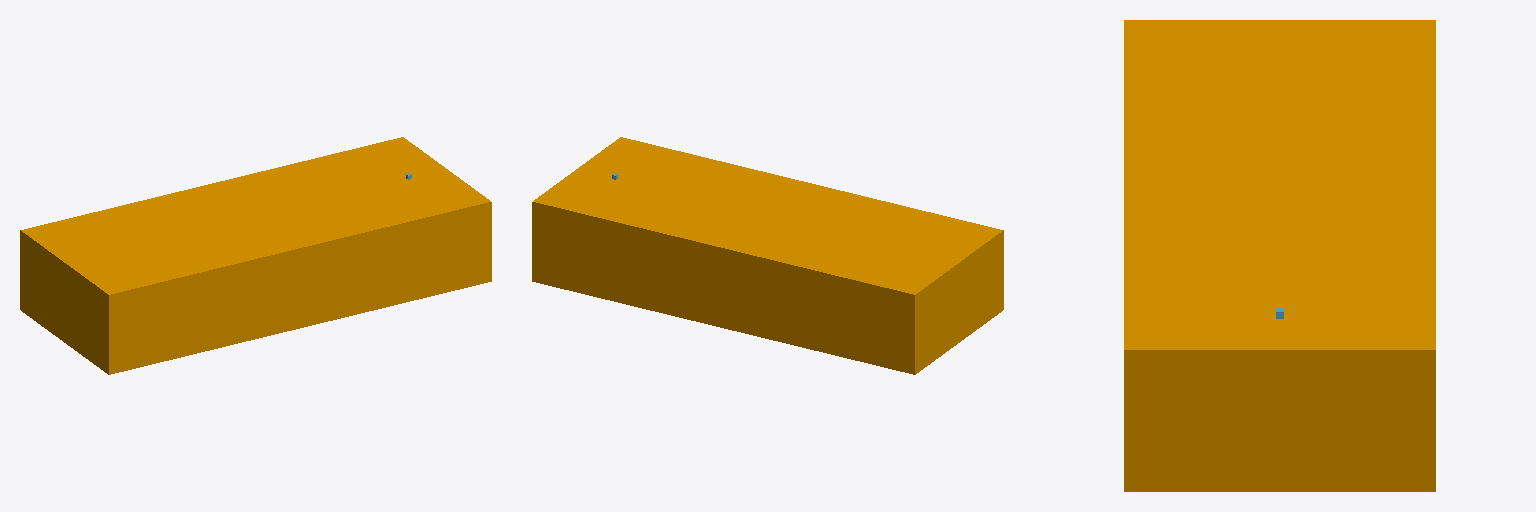
URDF robot description (bbot):
<?xml version="1.0" ?>
<robot name="bbot">

  <!-- GAZEBO SPECIFIC -->

  <!-- Hydrodynamics plugin -->
  <gazebo>
    <plugin name="hydrodynamics" filename="libHydrodynamicsPlugin.so">
      <!-- Wave Model -->
      <wave_model>ocean</wave_model>

      <!-- Hydrodynamics -->
      <damping_on>true</damping_on>
      <viscous_drag_on>true</viscous_drag_on>
      <pressure_drag_on>true</pressure_drag_on>

      <!-- Markers -->
      <markers>
        <update_rate>30</update_rate>
        <water_patch>false</water_patch>
        <waterline>false</waterline>
        <underwater_surface>false</underwater_surface>
      </markers>
    </plugin>
  </gazebo>

  <!-- base_link (main hull) -->
  <gazebo reference="base_link">
    <material>Gazebo/Orange</material>
  </gazebo>

  <!-- camera_link -->
  <gazebo reference="camera_link">
    <material>Gazebo/Red</material>
  </gazebo>

  <!-- camera sensor -->
  <gazebo reference="camera_link">
    <sensor type="camera" name="camera1">
      <always_on>1</always_on>>
      <update_rate>30.0</update_rate>
      <camera name="head">
        <horizontal_fov>1.047</horizontal_fov>
        <image>
          <width>800</width>
          <height>800</height>
          <format>R8G8B8</format>
        </image>
        <clip>
          <near>0.02</near>
          <far>300</far>
        </clip>
      </camera>
      <plugin name="camera_controller" filename="libgazebo_ros_camera.so">
        <alwaysOn>true</alwaysOn>
        <updateRate>0.0</updateRate>
        <cameraName>bbot/camera1</cameraName>
        <imageTopicName>image_raw</imageTopicName>
        <cameraInfoTopicName>camera_info</cameraInfoTopicName>
        <frameName>camera_link</frameName>
        <hackBaseline>0.07</hackBaseline>
        <distortionK1>0.0</distortionK1>
        <distortionK2>0.0</distortionK2>
        <distortionK3>0.0</distortionK3>
        <distortionT1>0.0</distortionT1>
        <distortionT2>0.0</distortionT2>
      </plugin>
    </sensor>
  </gazebo>

  <!-- GAZEBO SPECIFIC -->


  <!-- Base link (main hull) -->
  <link name="base_link">
    <visual>
      <geometry>
        <box size="10.0 4.0 2.0"/>
      </geometry>
    </visual>

    <collision>
      <geometry>
        <box size="10.0 4.0 2.0"/>
      </geometry>
    </collision>
    
    <!-- Mass and inertial assume volume is 0.25 densitity of water -->
    <inertial>
      <mass value="20000.0" />
      <inertia 
        ixx="33333.0" ixy="0.0" ixz="0.0"
        iyy="173333.0" iyz="0.0"
        izz="193333.0" />
    </inertial>
  </link>

  <!-- Camera -->
  <link name="camera_link">
    <visual>
      <geometry>
        <box size="0.1 0.1 0.1"/>
      </geometry>
      <material name="red" />
    </visual>

    <collision>
      <geometry>
        <box size="0.1 0.1 0.1"/>
      </geometry>
    </collision>

    <!-- Mock inertial values -->
    <inertial>
      <mass value="0.1" />
      <inertia 
        ixx="0.01" ixy="0.0" ixz="0.0"
        iyy="0.01" iyz="0.0"
        izz="0.01" />
    </inertial>
  </link>

  <joint name="camera_joint" type="fixed">
    <axis xyz="0 1 0" />
    <origin xyz="4.0 0 1.05" rpy="0 0 0"/>
    <parent link="base_link"/>
    <child link="camera_link"/>
  </joint>

  <!--
    generate an optical frame http://www.ros.org/reps/rep-0103.html#suffix-frames
    so that ros and opencv can operate on the camera frame correctly
  -->
  <!-- <link name="camera_link_optical">
  </link> -->

  <!-- <joint name="camera_optical_joint" type="fixed"> -->
    <!--
      these values have to be these values otherwise the gazebo camera image
      won't be aligned properly with the frame it is supposedly originating from
    -->
    <!-- <origin xyz="0 0 0" rpy="-1.570796 0 -1.570796"/>
    <parent link="camera_link"/>
    <child link="camera_link_optical"/>
  </joint> -->

</robot>

--- Facts derived from the render (not from the file) ---
The picture shows the robot from 3 angles, left to right: view 1: azimuth 30°, elevation 25°; view 2: azimuth 150°, elevation 25°; view 3: azimuth 270°, elevation 25°; orthographic projection.
Robot: bbot — 2 links, 1 joints (1 fixed); root link base_link; default pose: all joints at 0.
Links seen in each view (by area): view 1: base_link; view 2: base_link; view 3: base_link.
Link boxes in pixels (x1,y1,x2,y2): base_link: [20, 137, 491, 374]; base_link: [532, 137, 1003, 374]; base_link: [1124, 20, 1435, 491].
Size in the robot's own frame: 10 by 4 by 2.1 metres.
Geometry: primitives only (box / cylinder / sphere), no mesh files.